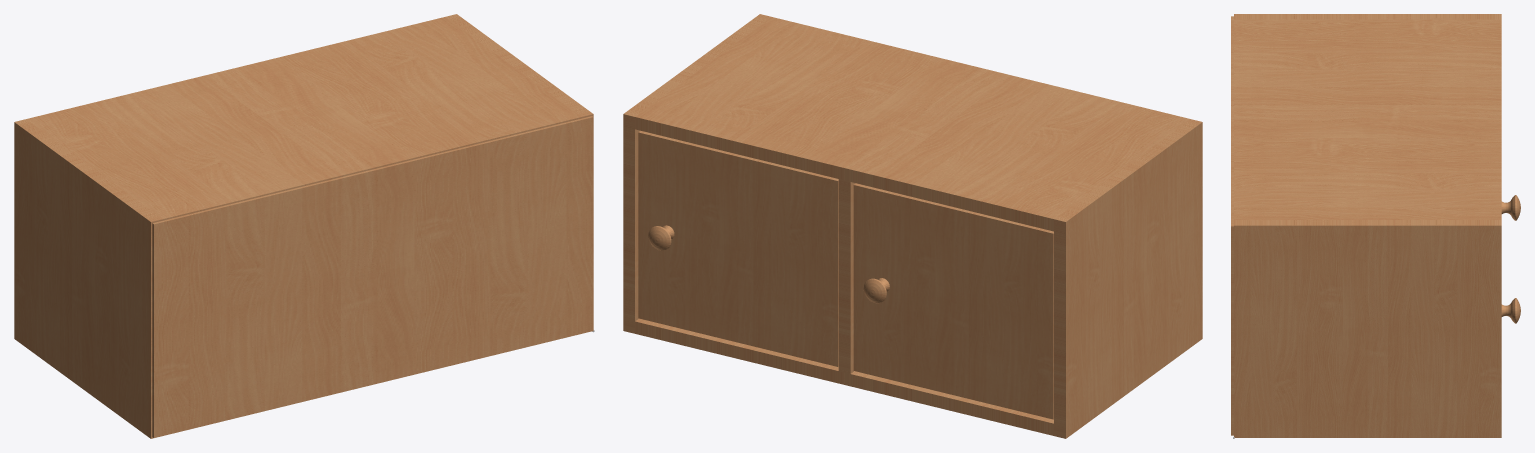
Rendered from antresol_k_shkafu_2_sektsionnaja.glb.
The picture shows the model from 3 angles, left to right: view 1: azimuth 30°, elevation 25°; view 2: azimuth 150°, elevation 25°; view 3: azimuth 270°, elevation 25°; orthographic projection. The views are drawn at different scales.
Visible parts, largest first — view 1: Shape_IndexedFaceSet.004_NON, Shape_IndexedFaceSet.006, Shape_IndexedFaceSet.008, Shape_IndexedFaceSet.009; view 2: Shape_IndexedFaceSet.006, Shape_IndexedFaceSet, Shape_IndexedFaceSet.002, Shape_IndexedFaceSet.008, Shape_IndexedFaceSet.007, Shape_IndexedFaceSet.009, Shape_IndexedFaceSet.005; view 3: Shape_IndexedFaceSet.009, Shape_IndexedFaceSet.006, Shape_IndexedFaceSet.008, Shape_IndexedFaceSet.004_NON, Shape_IndexedFaceSet.003_NON, Shape_IndexedFaceSet.001_NON.
Boxes of the visible parts, x1,y1,x2,y2 form: Shape_IndexedFaceSet.004_NON: [152, 116, 593, 437]; Shape_IndexedFaceSet.006: [26, 17, 581, 220]; Shape_IndexedFaceSet.008: [14, 119, 162, 438]; Shape_IndexedFaceSet.009: [445, 14, 593, 118]; Shape_IndexedFaceSet.006: [635, 17, 1190, 231]; Shape_IndexedFaceSet: [638, 130, 838, 366]; Shape_IndexedFaceSet.002: [853, 183, 1053, 419]; Shape_IndexedFaceSet.008: [1054, 119, 1202, 438]; Shape_IndexedFaceSet.007: [635, 318, 1053, 435]; Shape_IndexedFaceSet.009: [623, 14, 771, 333]; Shape_IndexedFaceSet.005: [838, 179, 855, 373]; Shape_IndexedFaceSet.009: [1234, 220, 1501, 437]; Shape_IndexedFaceSet.006: [1234, 19, 1501, 219]; Shape_IndexedFaceSet.008: [1234, 14, 1501, 19]; Shape_IndexedFaceSet.004_NON: [1231, 16, 1233, 435]; Shape_IndexedFaceSet.003_NON: [1501, 195, 1520, 220]; Shape_IndexedFaceSet.001_NON: [1501, 298, 1520, 323].
Bounding box in the file's own units: 599 × 281 × 347.
11 materials, 10 textured.
